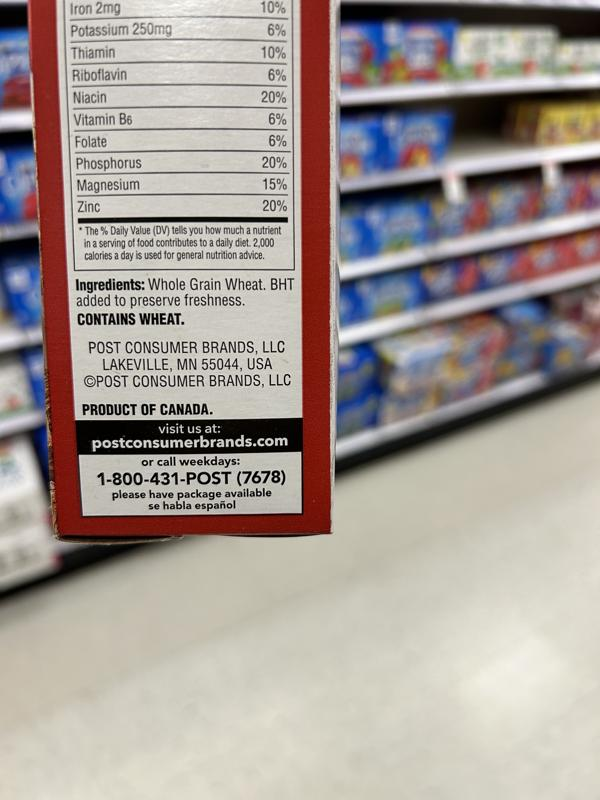ingredients: (72, 275, 296, 309)
